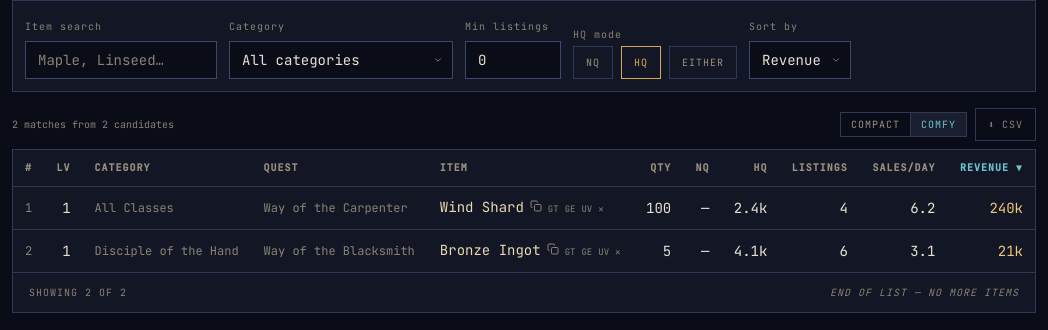
Test case: QuestItemFlipView › Sort by dropdown changes the active sort key
Check: the link "Wind Shard" is shown, box [440,197,524,217]
Check: the column heading "Revenue ▼" is shown, box [947,150,1035,186]
Select "Level" in the dropdown labelled "Sort by" at (800, 60), box [749,41,851,79]
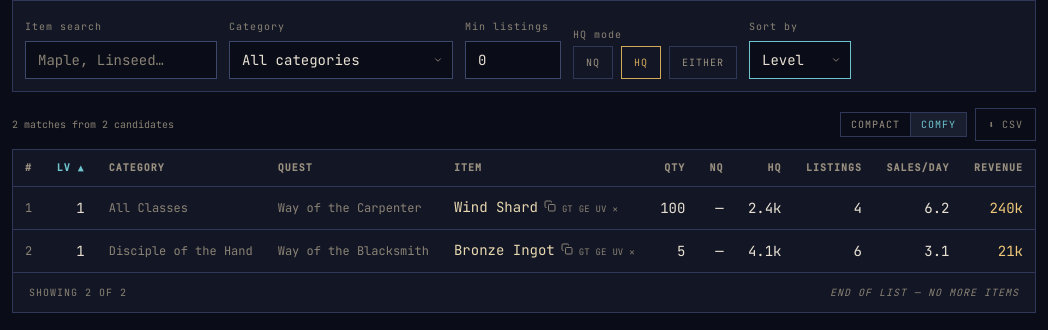
Check: the column heading "Lv ▲" is shown, box [44,150,97,186]
